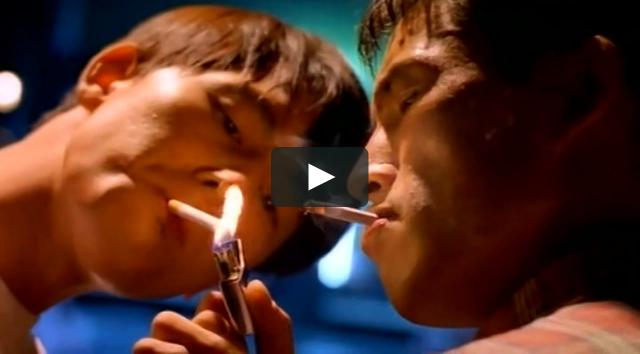Cigarette: (304, 198, 371, 226), (168, 195, 218, 230)
